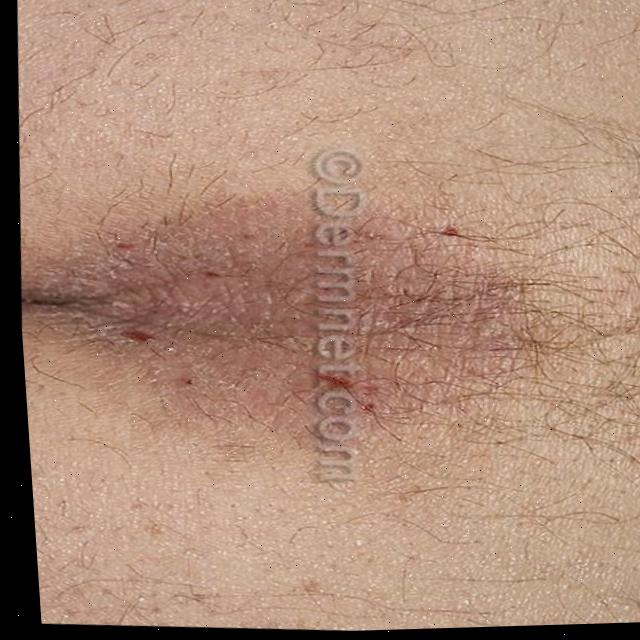Eczema: (16, 177, 476, 462)
